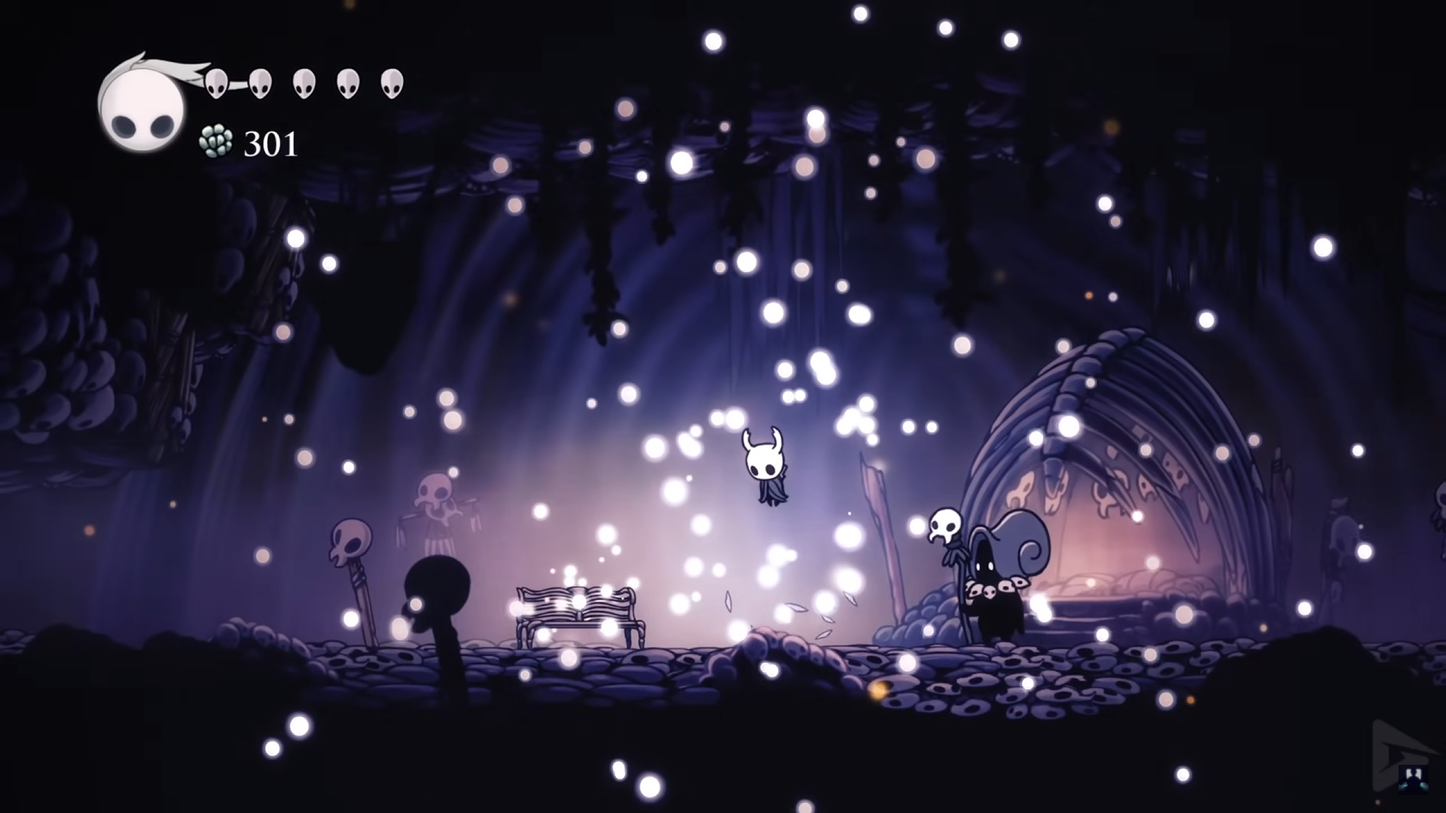HK: (731, 422, 795, 511)
